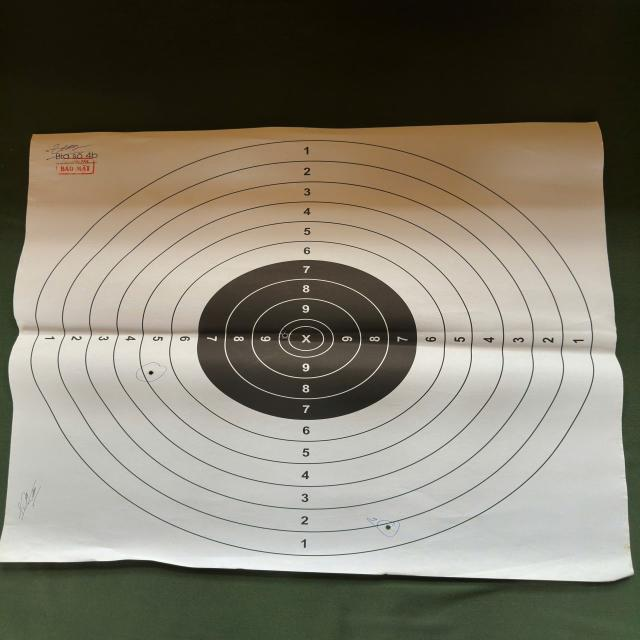bullet: (384, 524, 392, 532), (280, 332, 288, 340), (148, 368, 155, 376)
target: (8, 120, 624, 582)
